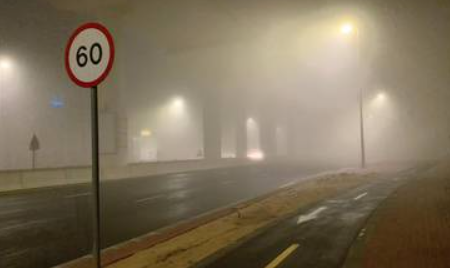Speed limit: (56, 16, 117, 94)
